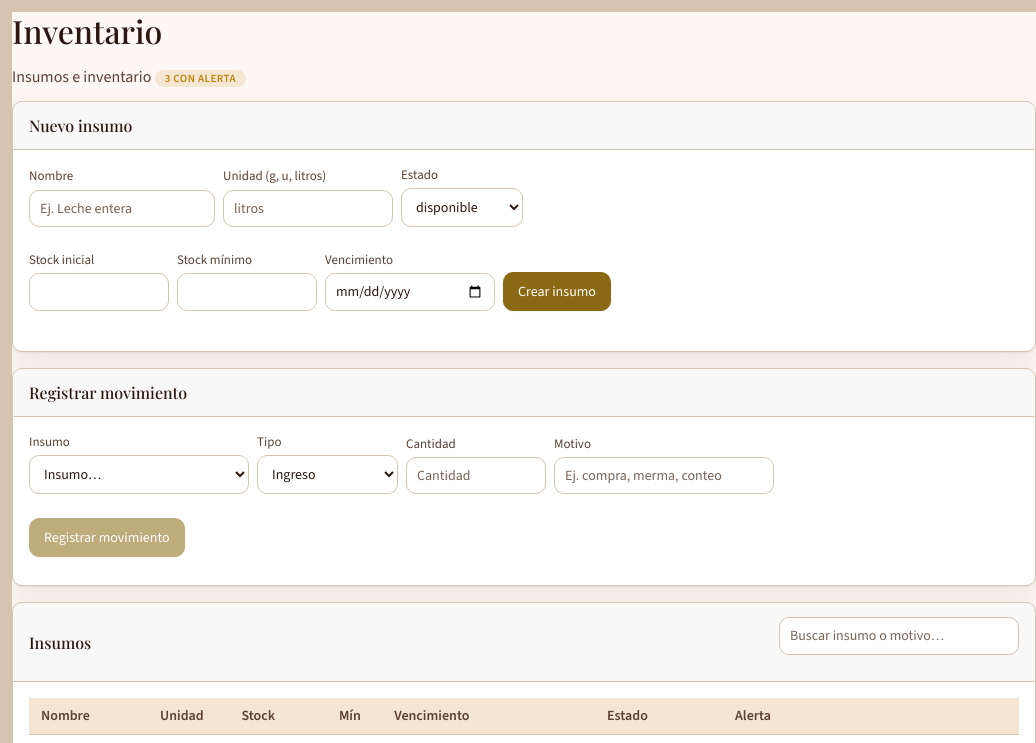
Test: Inventario (HU-06) › ingreso suma stock: registra movimiento y recarga la lista
Select "Leche entera (20 litros)" in the 2nd dropdown at (139, 475), box [29,455,249,494]
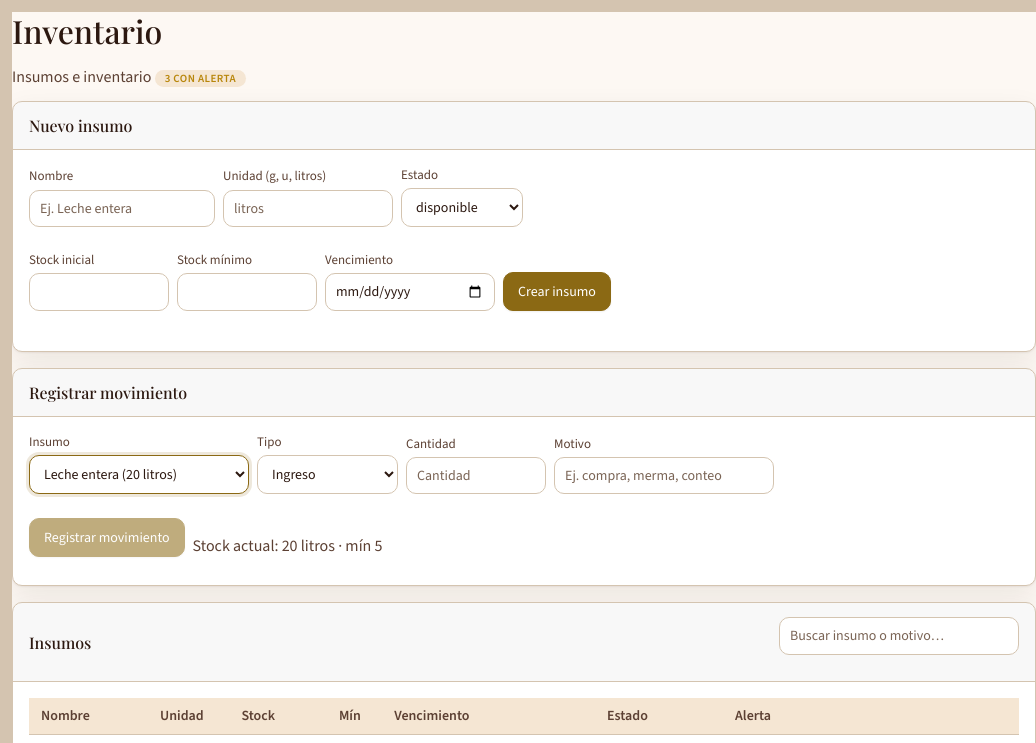
Type "10" into the number field with placeholder "Cantidad" at (476, 476), box [406,457,546,494]
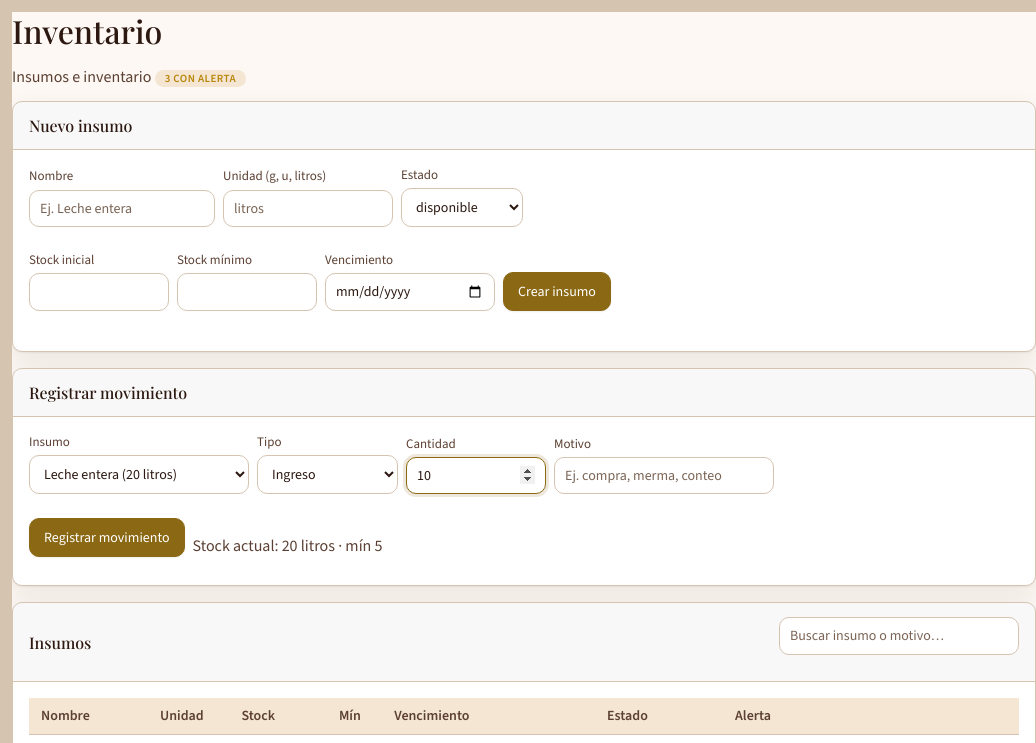
Click the button "Registrar movimiento" at (107, 538), box [29,518,185,557]
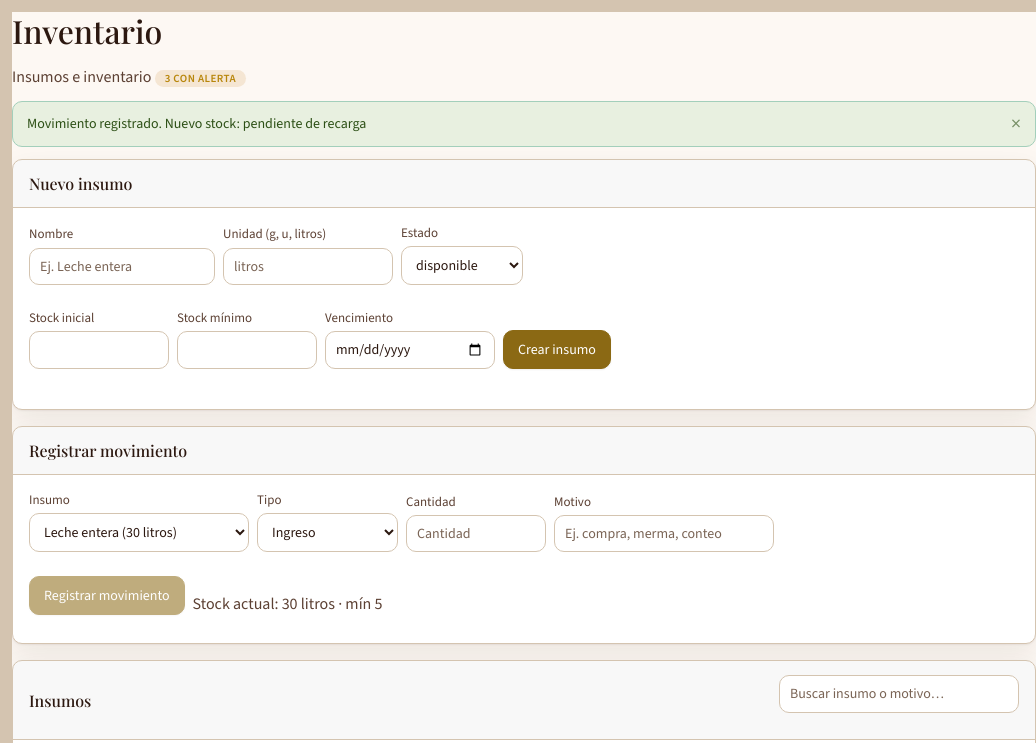
Now the text "Movimiento registrado. Nuevo stock: pendiente de recarga" is shown, box [27,114,366,133]
